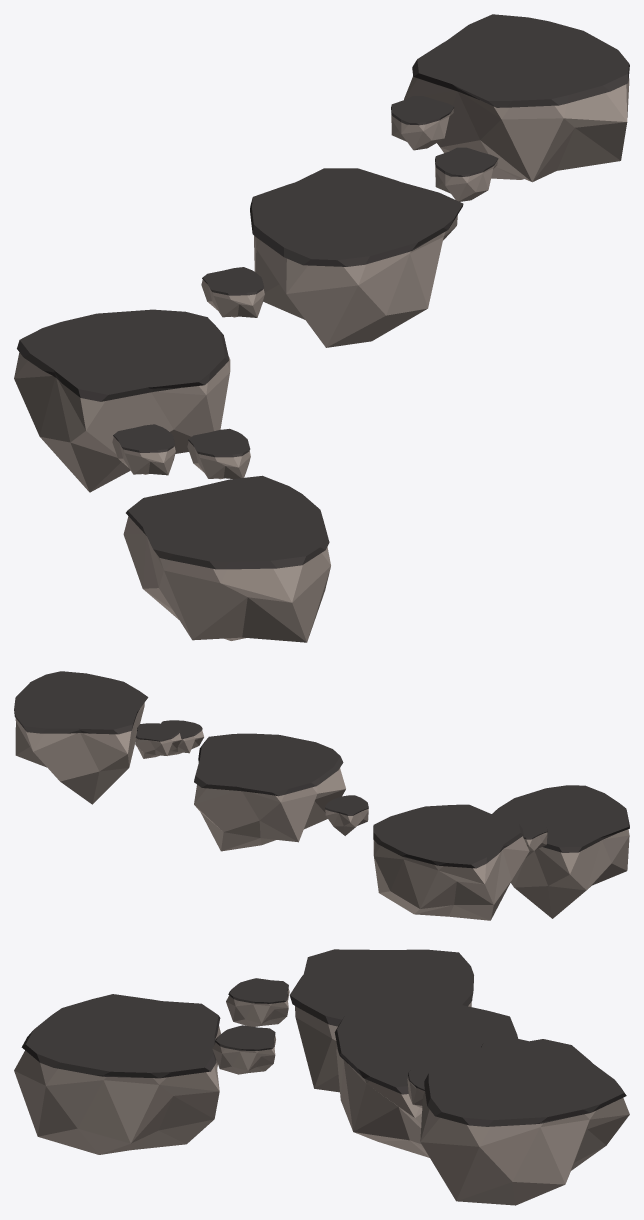
Rendered from Stairs.fbx.
The picture shows the model from 3 angles, top to bottom: view 1: azimuth 30°, elevation 25°; view 2: azimuth 150°, elevation 25°; view 3: azimuth 270°, elevation 25°; orthographic projection. The views are drawn at different scales.
Parts seen in each view (by area): view 1: Icosphere.015, Icosphere, Icosphere.012, Icosphere.002, Icosphere.008, Icosphere.010, Icosphere.016, Icosphere.007, Icosphere.005; view 2: Icosphere.002, Icosphere.015, Icosphere.012, Icosphere, Icosphere.008, Icosphere.007, Icosphere.010, Icosphere.016; view 3: Icosphere, Icosphere.012, Icosphere.015, Icosphere.002, Icosphere.005, Icosphere.016, Icosphere.010.
Boxes of the visible parts, x1,y1,x2,y2 form: Icosphere.015: (250, 168, 463, 347); Icosphere: (123, 475, 330, 642); Icosphere.012: (404, 14, 629, 182); Icosphere.002: (14, 309, 230, 492); Icosphere.008: (391, 96, 454, 150); Icosphere.010: (435, 147, 498, 201); Icosphere.016: (112, 424, 175, 475); Icosphere.007: (201, 267, 264, 317); Icosphere.005: (187, 428, 250, 479); Icosphere.002: (373, 804, 529, 920); Icosphere.015: (194, 733, 345, 851); Icosphere.012: (14, 671, 148, 804); Icosphere: (492, 785, 629, 918); Icosphere.008: (135, 723, 181, 758); Icosphere.007: (325, 795, 368, 835); Icosphere.010: (161, 720, 203, 755); Icosphere.016: (515, 819, 547, 857); Icosphere: (14, 994, 220, 1154); Icosphere.012: (420, 1039, 629, 1205); Icosphere.015: (334, 1003, 518, 1157); Icosphere.002: (289, 949, 473, 1092); Icosphere.005: (212, 1025, 275, 1074); Icosphere.016: (226, 978, 289, 1026); Icosphere.010: (407, 1065, 436, 1107).
Size of the model in its own units: 15.86 by 7.14 by 13.21.
